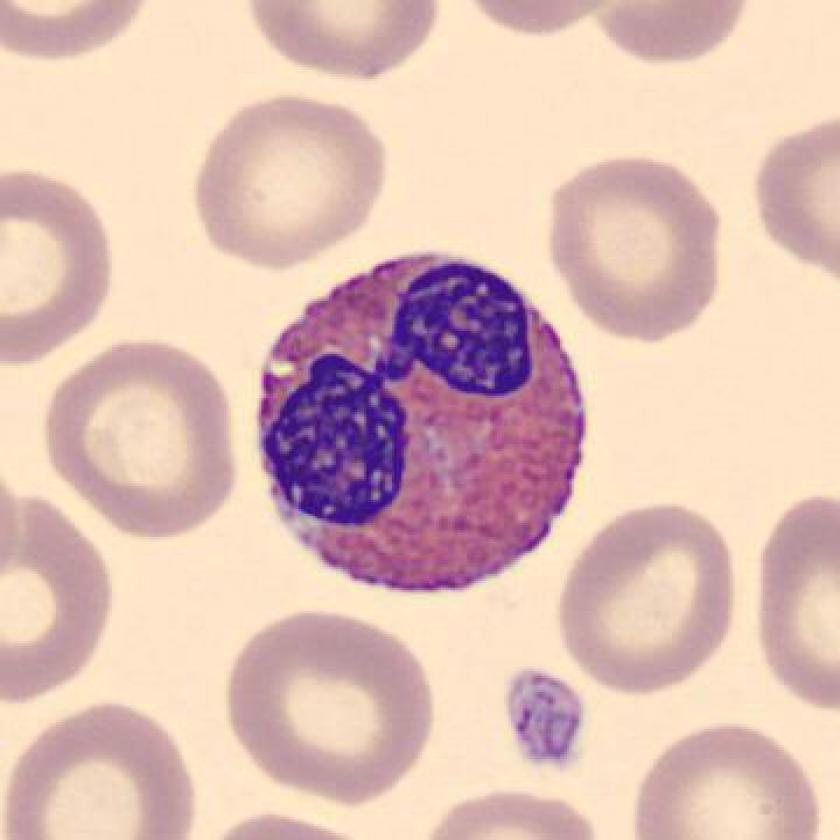eosinophil: (239, 239, 598, 605)
